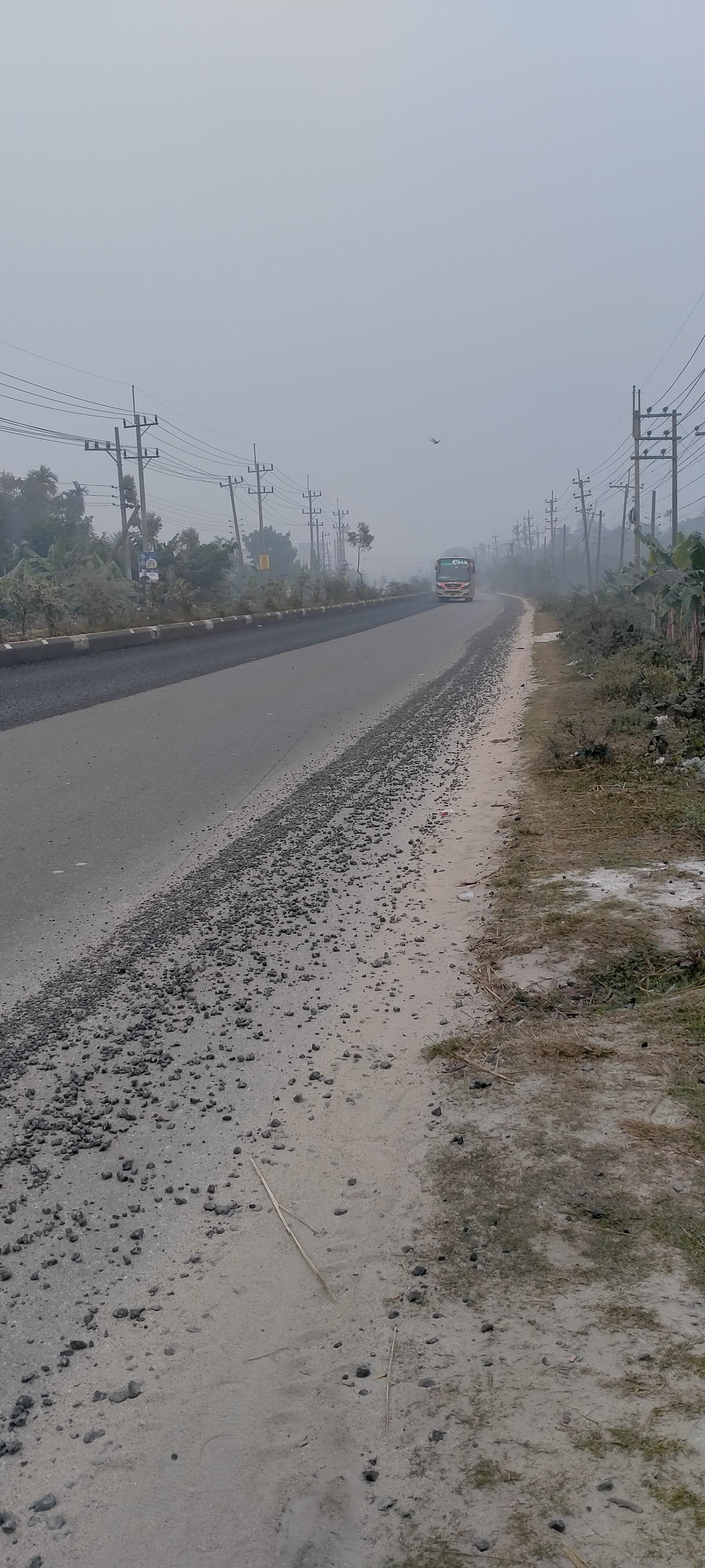Bus: (424, 547, 484, 608)
